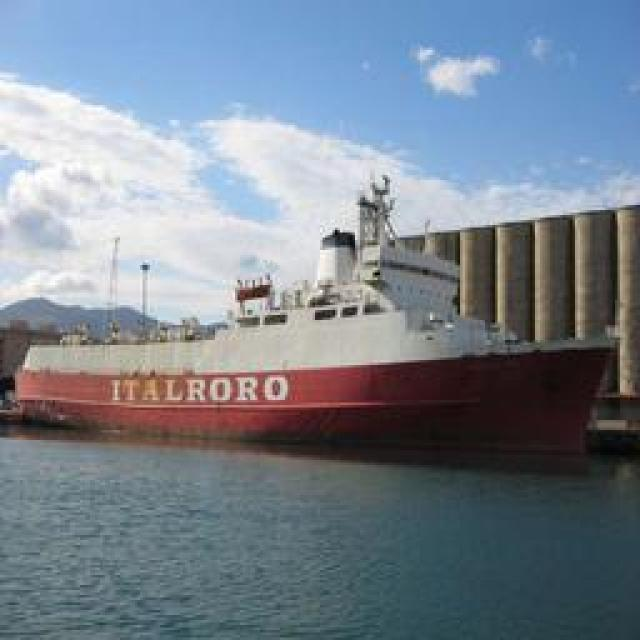CIV_Ship: (12, 184, 630, 444)
